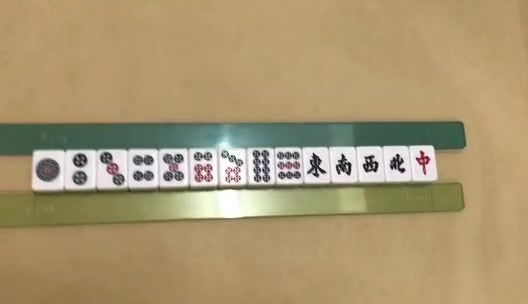1p: (36, 158, 60, 182)
1z: (307, 153, 326, 178)
2p: (72, 154, 87, 185)
2z: (335, 155, 352, 176)
3p: (100, 152, 125, 187)
3z: (363, 155, 380, 175)
4p: (134, 155, 154, 181)
4z: (388, 153, 406, 174)
5p: (164, 154, 184, 181)
6p: (193, 153, 214, 182)
7p: (222, 150, 241, 182)
7z: (416, 150, 432, 174)
8p: (253, 150, 271, 182)
9p: (277, 151, 301, 180)
